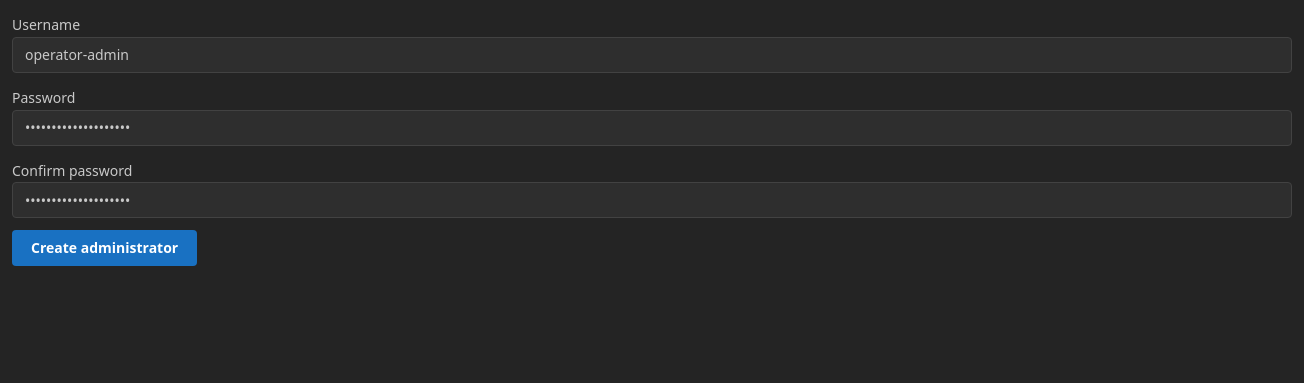
Scenario: any other failure renders in place › a transport failure shows the general inline alert and keeps the form usable — DoD-7
The image size is (1304, 383).
Click the submit button at x=105, y=248, box 12,230 -> 197,266
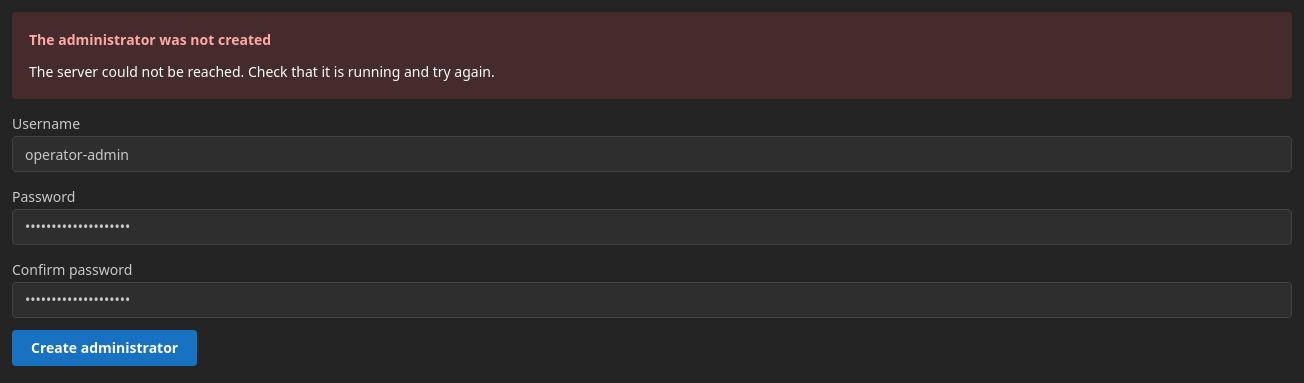
Expected: the field labelled "Username" holds "operator-admin", 12,136 -> 1292,172
Now the message is shown, box 12,12 -> 1292,99
